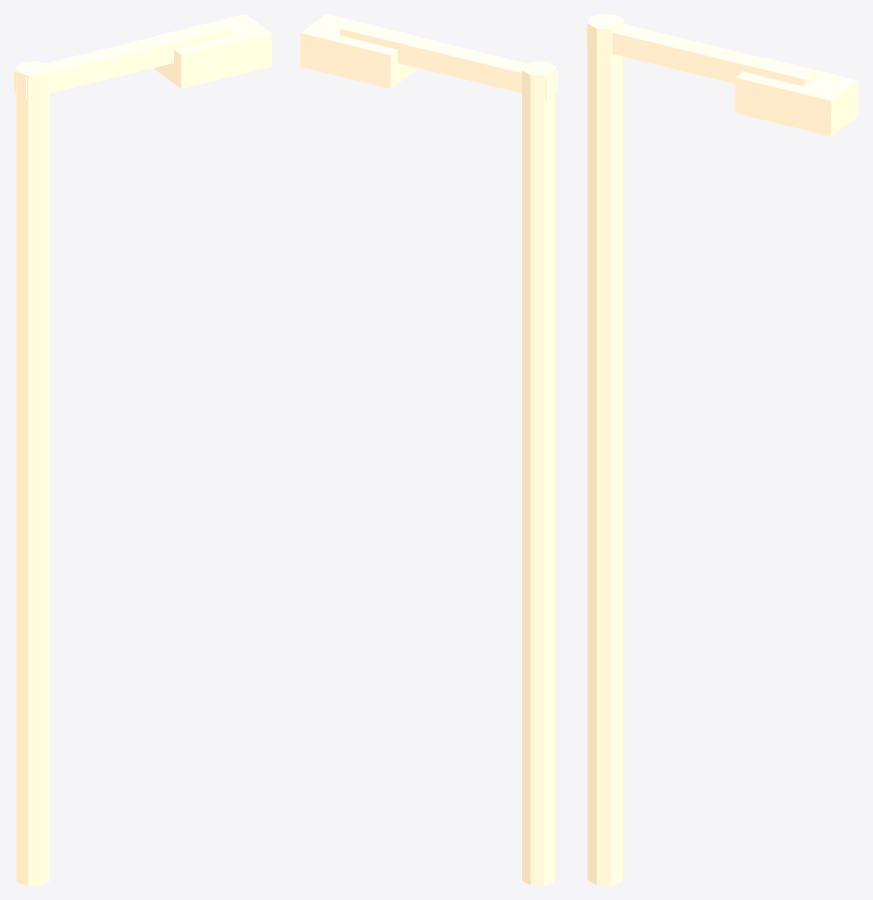
Rendered from streetlamp.glb.
3 views of the same model, side by side, from view 1: azimuth 30°, elevation 25°; view 2: azimuth 150°, elevation 25°; view 3: azimuth 330°, elevation 25° (orthographic). The views are drawn at different scales.
Parts seen in each view (by area): view 1: streetlamp; view 2: streetlamp; view 3: streetlamp.
Part boxes in pixels (box(x1,y1,x2,y2)): streetlamp: box(14, 14, 271, 885); streetlamp: box(300, 14, 557, 885); streetlamp: box(586, 14, 858, 885).
Bounding box in the file's own units: 1.87 × 6 × 0.35.
